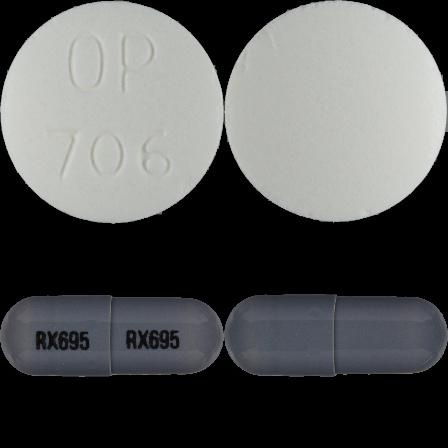54868-5034: (0, 0, 224, 224)
